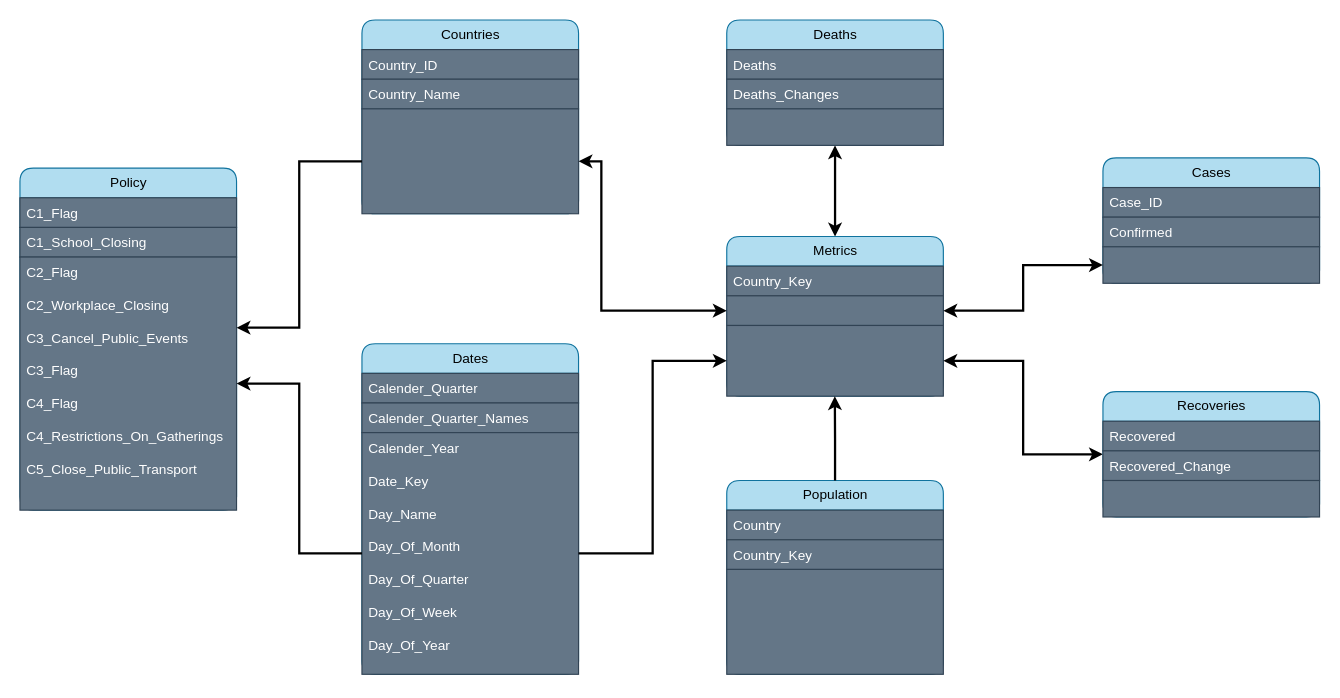
Image size: 1340x698. Some labels were removed from this diagram. The centre of each missing label's shape, as x and y in pixels:
Confirmed_Change: point (1211, 264)
Country_Code Latitude Longitude: point (470, 161)
Date_Key: point (834, 310)
Deaths_ID: point (834, 126)
Density Population_2020 Population_2021: point (834, 621)
Fact_Key Metrics_Key: point (834, 360)
Recoveries_ID: point (1211, 498)
